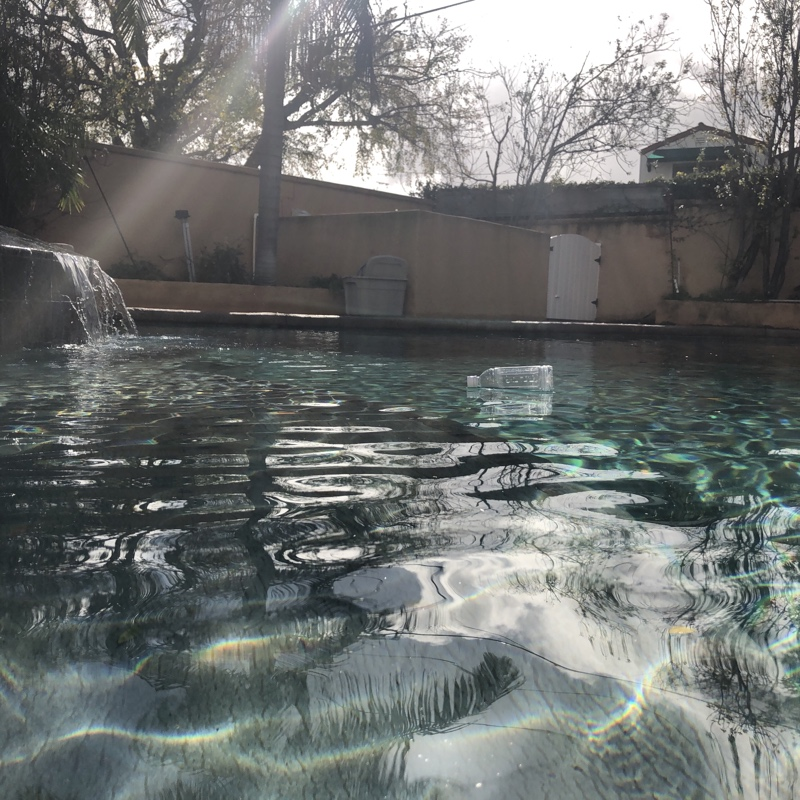Plastic Bottle: (459, 362, 559, 402)
